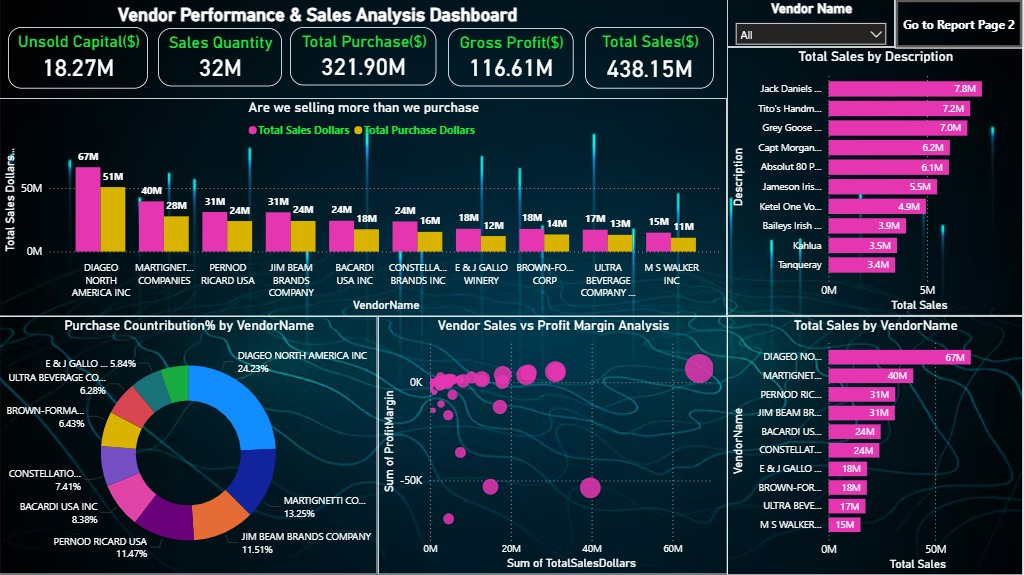

What the dashboard file says about the page in this screenshot:
{"tool":"powerbi","page":{"name":"Page 1","canvas":[1280,720],"ordinal":0},"visuals":[{"type":"card","title":"Total Sales($)","fields":{"Values":["Sum(vendor_sales_summary.TotalSalesDollars)"]},"box":[732.2,34.4,161,77.1],"z":0},{"type":"card","title":"Total Purchase($)","fields":{"Values":["Sum(vendor_sales_summary.TotalPurchaseDollars)"]},"box":[363.3,35,183.3,73.3],"z":1000},{"type":"card","title":"Gross Profit($)","fields":{"Values":["Sum(vendor_sales_summary.GrossProfit)"]},"box":[561.7,36.7,156.7,73.3],"z":2000},{"type":"card","title":"Unsold Capital($)","fields":{"Values":["Sum(vendor_sales_summary.UnsoldCapital)"]},"box":[11.7,35,175,76.7],"z":3000},{"type":"donutChart","fields":{"Category":["PurchaseContribution.VendorName"],"Y":["Sum(PurchaseContribution.PurchaseCountribution%)"]},"box":[0,396.7,473.3,323.3],"z":4000},{"type":"barChart","fields":{"Category":["vendor_sales_summary.Description"],"Y":["vendor_sales_summary.Total Sales"]},"box":[910,60,370,336.2],"z":5000},{"type":"clusteredBarChart","fields":{"Category":["vendor_sales_summary.VendorName"],"Y":["vendor_sales_summary.Total Sales"]},"box":[910,396.2,370,323.8],"z":6000},{"type":"card","title":"Sales Quantity","fields":{"Values":["Sum(vendor_sales_summary.TotalSalesQuantity)"]},"box":[198.3,36.7,155,73.3],"z":7000},{"type":"clusteredColumnChart","title":"Are we selling more than we purchase","fields":{"Category":["vendor_sales_summary.VendorName"],"Y":["Sum(vendor_sales_summary.TotalSalesDollars)","Sum(vendor_sales_summary.TotalPurchaseDollars)"]},"box":[0,123.3,910,273.3],"z":8000},{"type":"scatterChart","title":"Vendor Sales vs Profit Margin Analysis","fields":{"X":["Sum(vendor_sales_summary.TotalSalesDollars)"],"Y":["Sum(vendor_sales_summary.ProfitMargin)"],"Size":["Sum(vendor_sales_summary.TotalSalesQuantity)"],"Category":["vendor_sales_summary.VendorName"]},"box":[473.3,396.7,436.7,323.3],"z":9000},{"type":"slicer","title":"Vendor Name","fields":{"Values":["vendor_sales_summary.VendorName"]},"box":[910,0,210,60],"z":10000},{"type":"actionButton","box":[1120,0,160,61.7],"z":11000},{"type":"textbox","title":"Vendor Performance & Sales Analysis Dashboard","box":[0,6.7,796.7,73.3],"z":12000}]}

Visuals, with their boxes in screenshot pixels (x1, y1, x2, y2), scaled from the page's 1280x720 canvas onto the 1024x575 screenshot:
"Total Sales($)" card: 586/27/715/89
"Total Purchase($)" card: 291/28/437/86
"Gross Profit($)" card: 449/29/575/88
"Unsold Capital($)" card: 9/28/149/89
donutChart - PurchaseContribution.VendorName x Sum(PurchaseContribution.PurchaseCountribution%): 0/317/379/574
barChart - vendor_sales_summary.Description x vendor_sales_summary.Total Sales: 728/48/1023/316
clusteredBarChart - vendor_sales_summary.VendorName x vendor_sales_summary.Total Sales: 728/316/1023/574
"Sales Quantity" card: 159/29/283/88
"Are we selling more than we purchase" clusteredColumnChart: 0/98/728/317
"Vendor Sales vs Profit Margin Analysis" scatterChart: 379/317/728/574
"Vendor Name" slicer: 728/0/896/48
actionButton: 896/0/1023/49
"Vendor Performance & Sales Analysis Dashboard" textbox: 0/5/637/64
